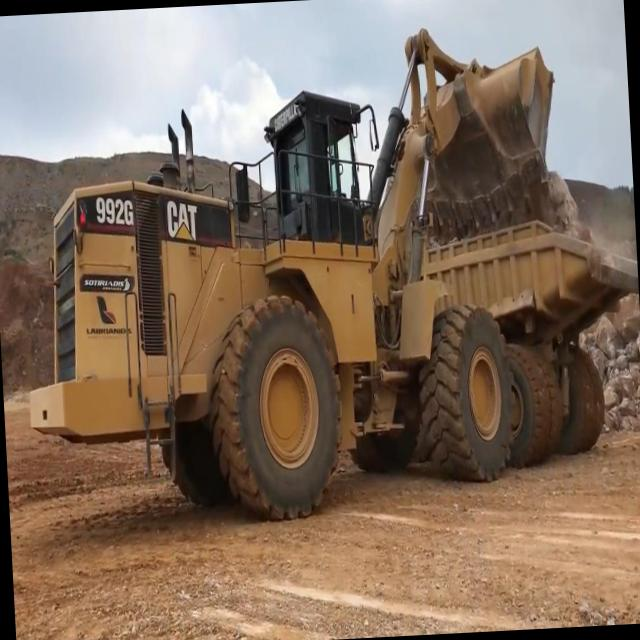Camion volquete: (414, 206, 640, 482)
pala cargadora: (8, 14, 580, 536)
